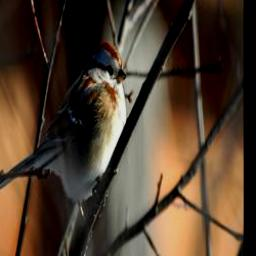Sparrow: (0, 38, 128, 216)
